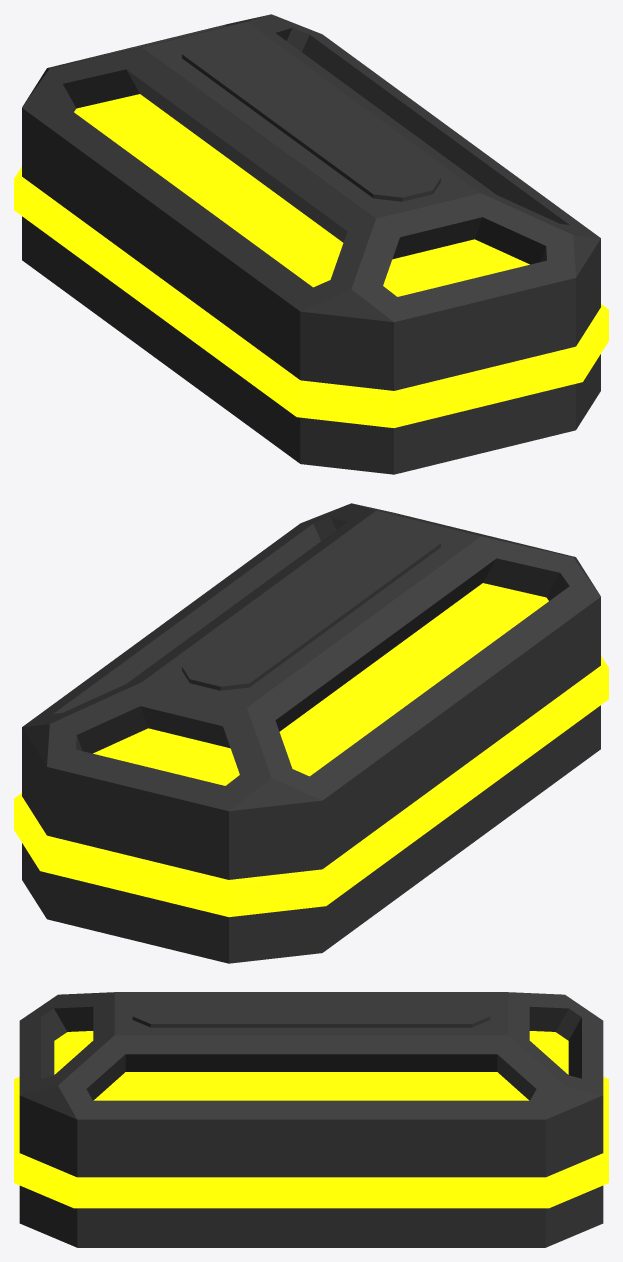
File: Wall_1x2.fbx
3 renders of one model, top to bottom at view 1: azimuth 30°, elevation 25°; view 2: azimuth 150°, elevation 25°; view 3: azimuth 270°, elevation 25°, orthographic. The views are drawn at different scales.
Visible parts, largest first — view 1: Cube; view 2: Cube; view 3: Cube.
Part boxes in pixels (x1,y1,x2,y2): Cube: (14,14,608,474); Cube: (14,503,608,963); Cube: (14,992,608,1247).
Size of the model in its own units: 208 by 133 by 408.
